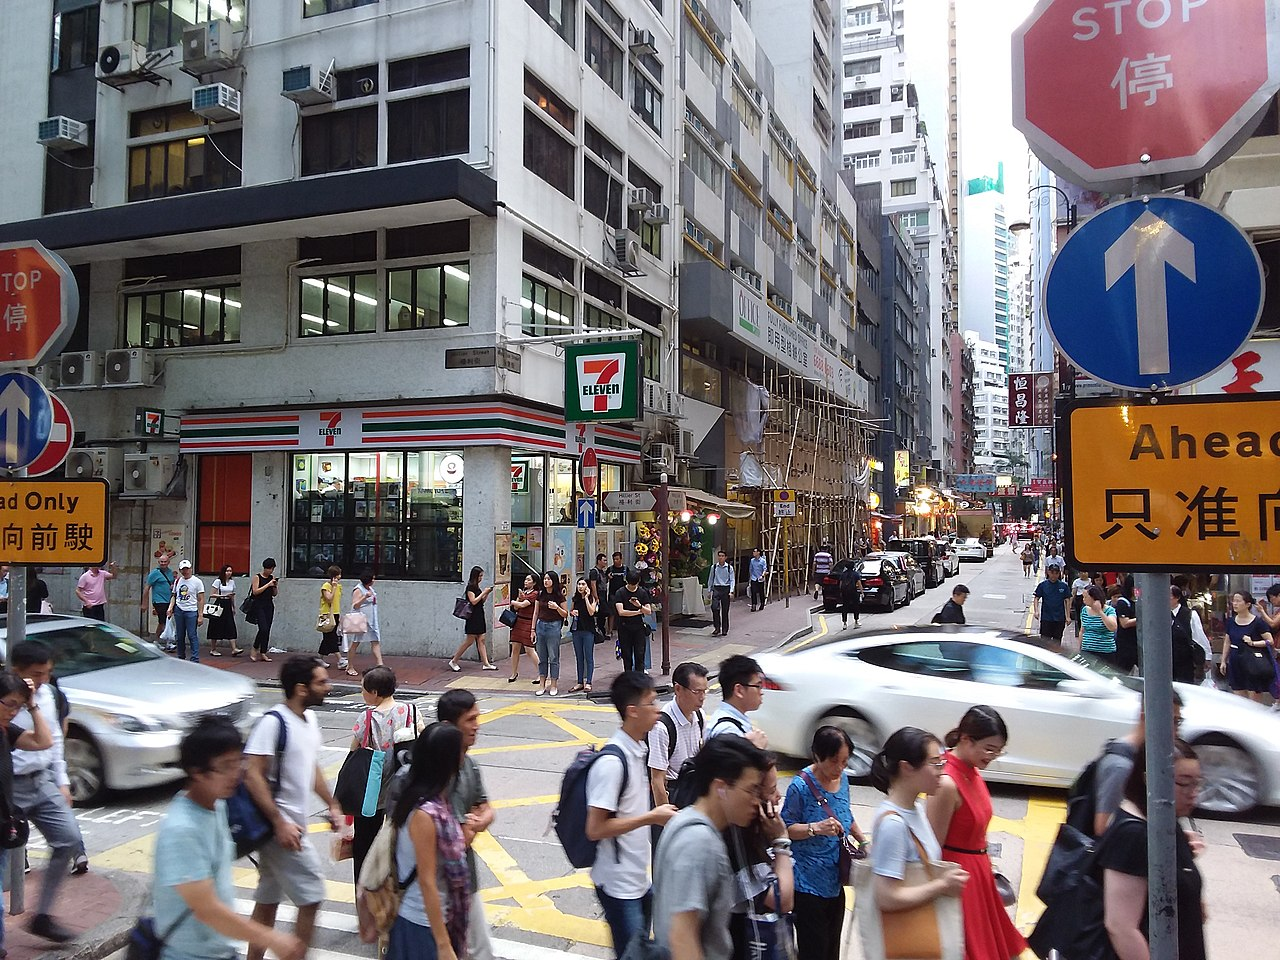End Of No Stopping: (770, 488, 799, 518)
No Enter: (582, 448, 597, 495)
One Way Traffic: (577, 500, 597, 529)
Stop: (1027, 0, 1280, 178), (0, 237, 75, 365)
